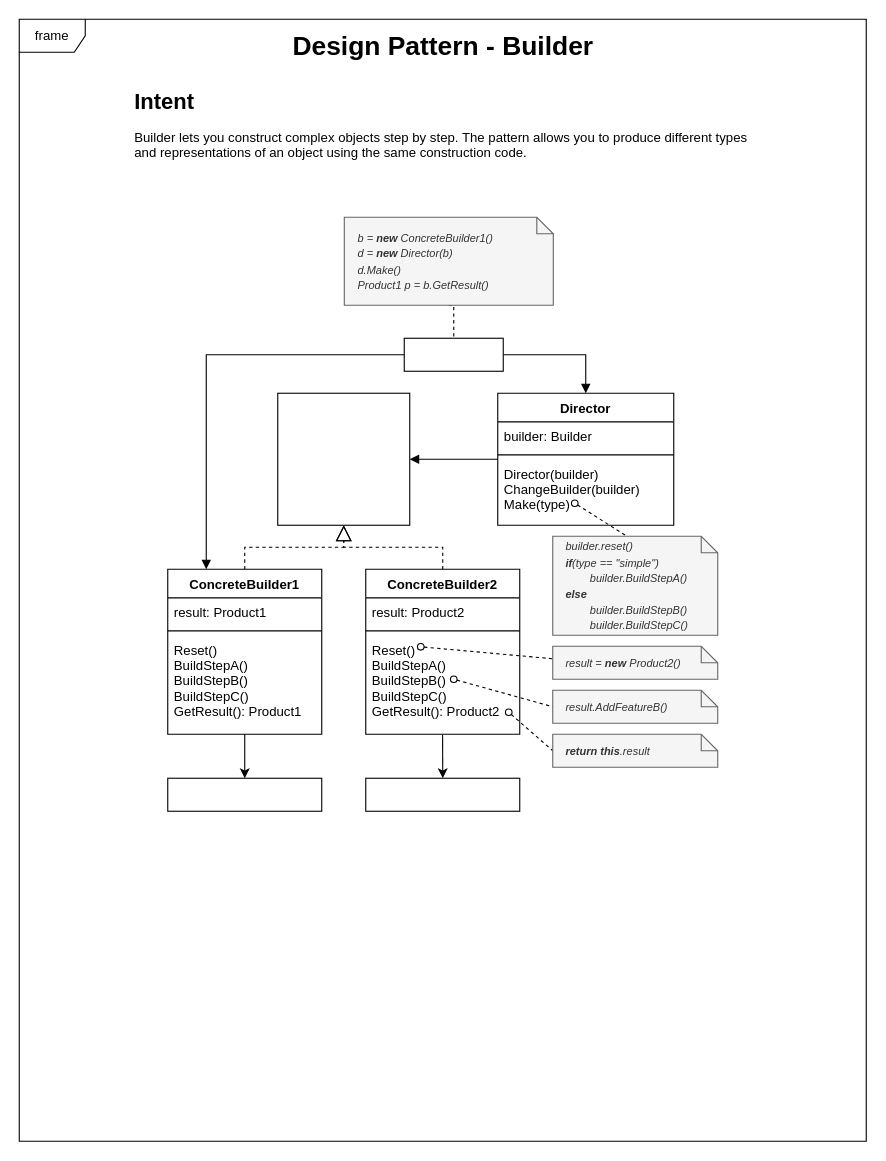
The diagram is 886 pixels wide and 1161 high, and some of its shapes have lost their labels. The shapes that lost their labels are listed below. From the top down, each one's centre as x and y in pixels, then its label:
At (x=453, y=354): "Client".
At (x=343, y=458): "<<Interface>> Builder Reset() BuildStepA() BuildStepB() BuildStepC()".
At (x=244, y=794): "Product1".
At (x=442, y=794): "Product2".
